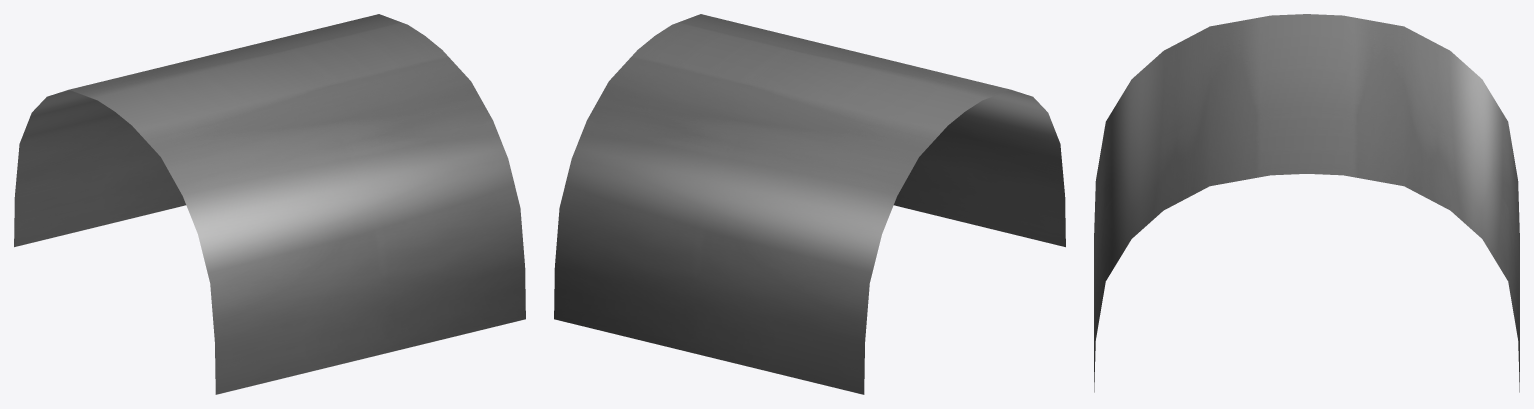
File: hopo_top.obj
3 renders of one model, left to right at view 1: azimuth 30°, elevation 25°; view 2: azimuth 150°, elevation 25°; view 3: azimuth 270°, elevation 25°, orthographic. The views are drawn at different scales.
Parts seen in each view (by area): view 1: Notes.012; view 2: Notes.012; view 3: Notes.012.
Part boxes in pixels (x1=…): Notes.012: x1=14, y1=14, x2=525, y2=394; Notes.012: x1=554, y1=14, x2=1065, y2=394; Notes.012: x1=1094, y1=14, x2=1519, y2=392.
Bounding box in the file's own units: 0.2221 × 0.1434 × 0.2501.
1 material, 1 textured.
